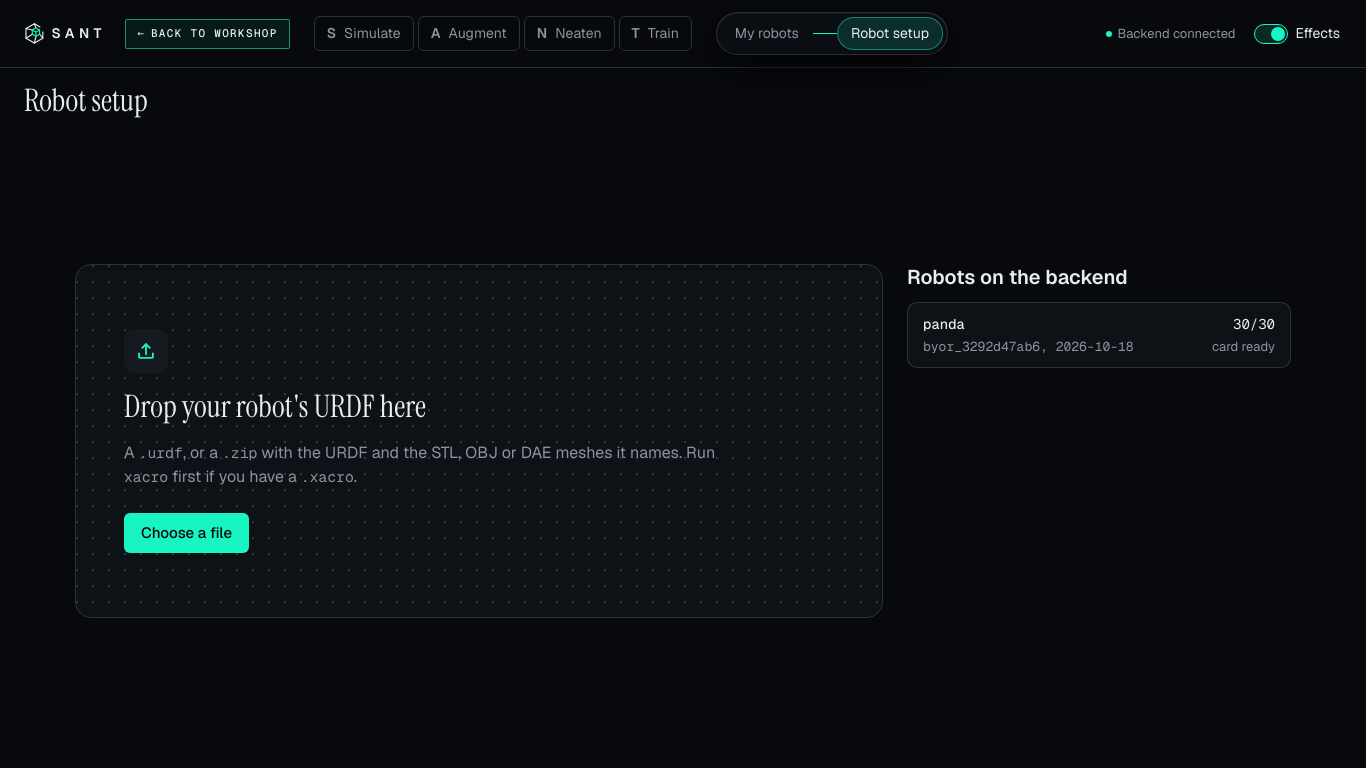
Test: SetupPage on T2's backend › opens a stored robot with the roles and mount of its last card, and shows that card
Click the button "panda 30/30 byor_3292d47ab6, 2026-10-18 card ready" at (1099, 335), box [907, 302, 1291, 368]
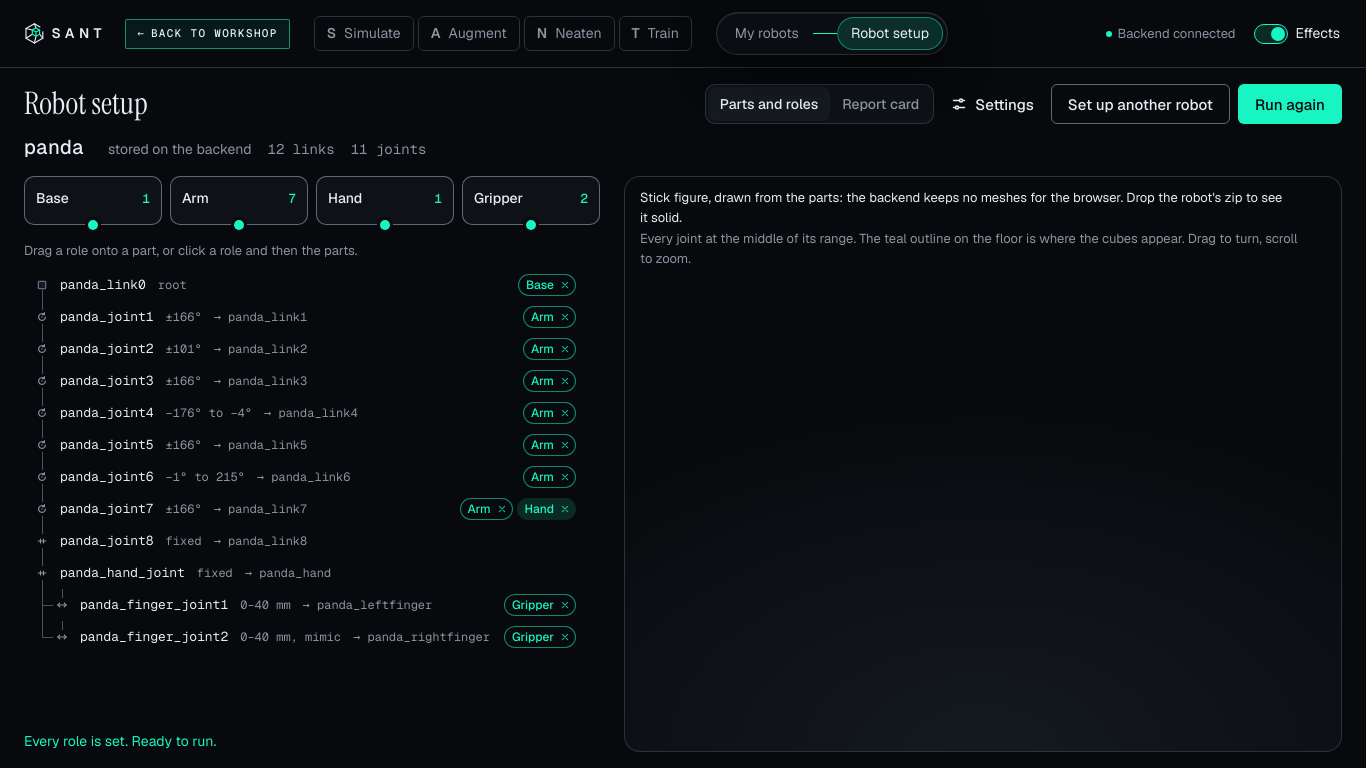
Expected: the heading "panda" is shown, [24, 136, 84, 159]
Expected: the text "stored on the backend" is shown, [108, 139, 252, 160]
Expected: the text "Hand" is shown, [516, 498, 576, 520]
Click the button "Report card" at (881, 104), box [830, 87, 931, 121]
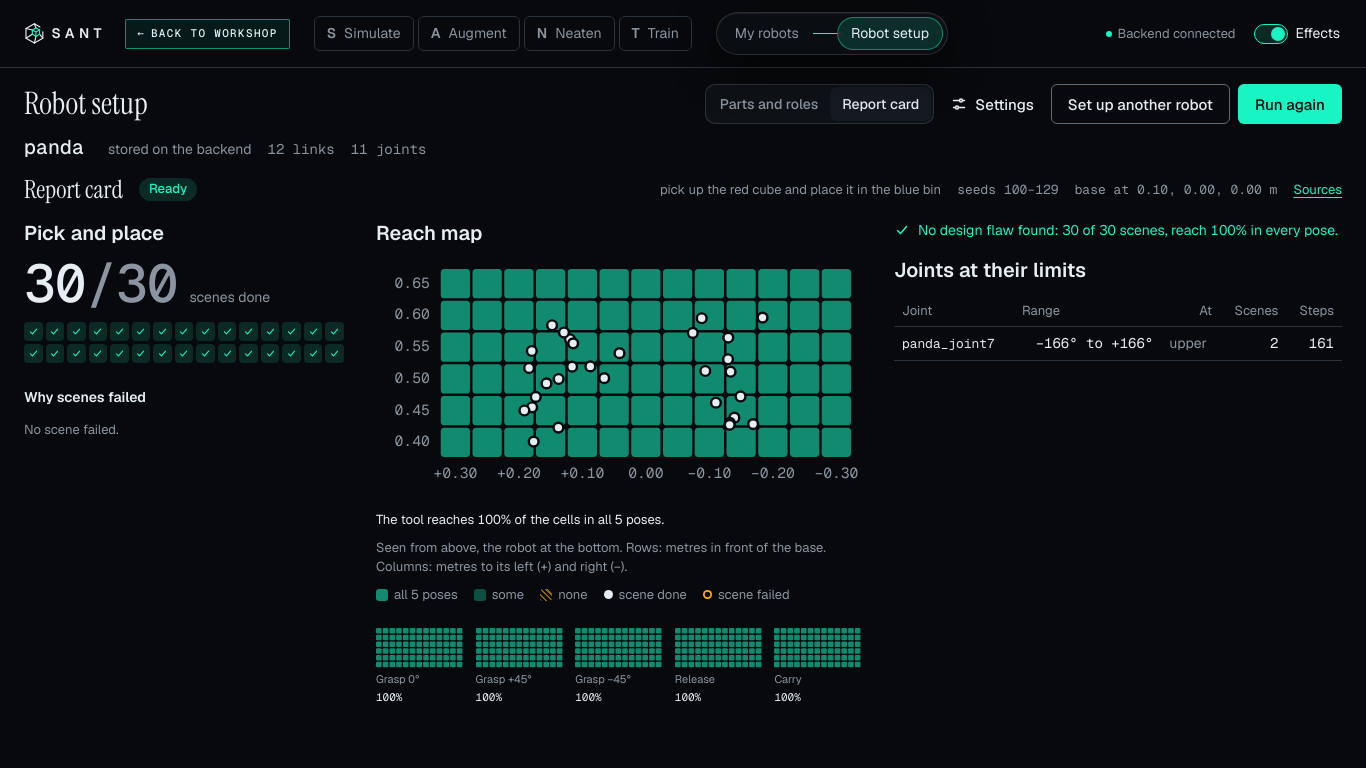
Expected: the text "30" is shown, [24, 248, 85, 318]
Expected: the text "base at 0.10, 0.00, 0.00 m" is shown, [1075, 180, 1277, 200]
